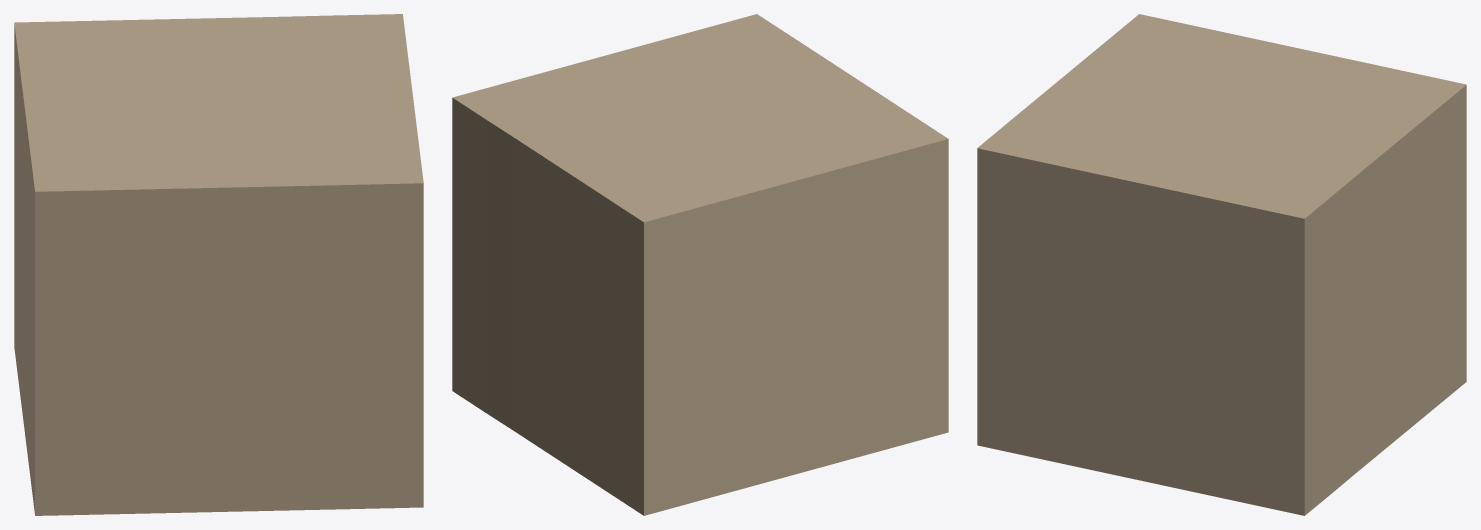
File: bld_99519922.dae
The picture shows the model from 3 angles, left to right: view 1: azimuth 30°, elevation 25°; view 2: azimuth 150°, elevation 25°; view 3: azimuth 270°, elevation 25°; orthographic projection. The views are drawn at different scales.
Parts seen in each view (by area): view 1: bld_99519922; view 2: bld_99519922; view 3: bld_99519922.
Boxes of the visible parts, bbox=[...] form: bld_99519922: bbox=[14, 14, 423, 515]; bld_99519922: bbox=[452, 14, 948, 515]; bld_99519922: bbox=[977, 14, 1466, 515].
Size of the model in its own units: 11.83 by 11.95 by 8.
